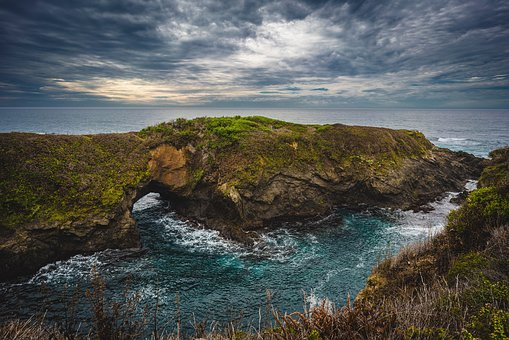sea: (72, 208, 428, 326)
sky: (7, 5, 509, 108)
stone: (10, 120, 430, 234)
